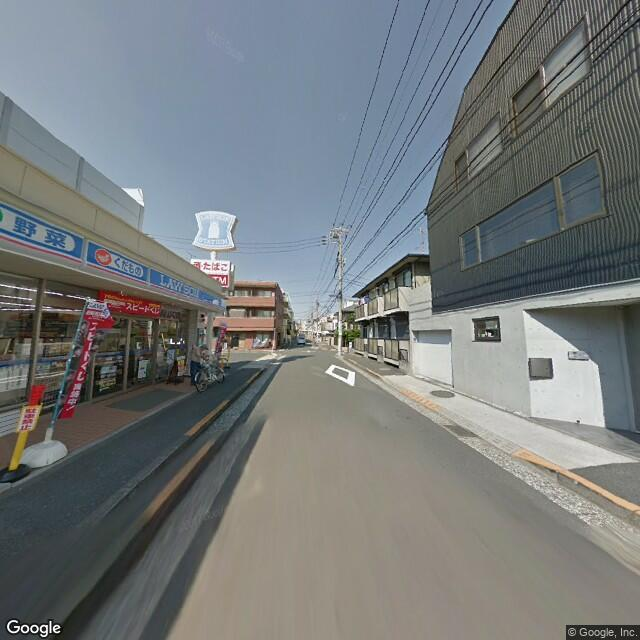lawson: (1, 203, 227, 314), (196, 203, 235, 252)
